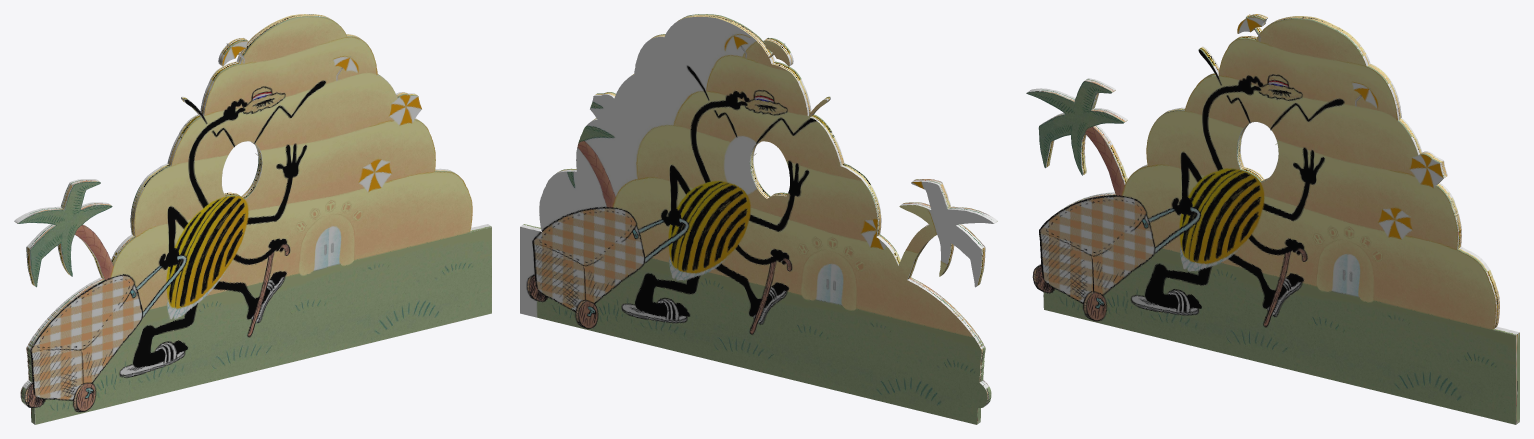
The model's file is insektenhotel.glb.
3 renders of one model, left to right at view 1: azimuth 30°, elevation 25°; view 2: azimuth 150°, elevation 25°; view 3: azimuth 330°, elevation 25°, orthographic. The views are drawn at different scales.
Visible parts, largest first — view 1: Extrude.1; view 2: Extrude.1; view 3: Extrude.1.
Boxes of the visible parts, <box> form: Extrude.1: <box>14,14,491,424</box>; Extrude.1: <box>520,14,997,424</box>; Extrude.1: <box>1026,14,1519,424</box>.
Bounding box in the file's own units: 2.4 × 1.66 × 0.0338.
1 material, 1 textured.
